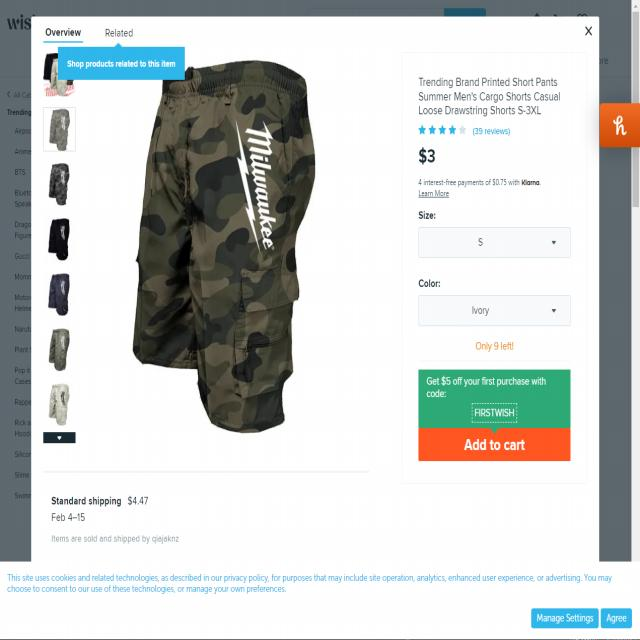sneaking: (3, 564, 635, 637), (463, 329, 532, 359)
